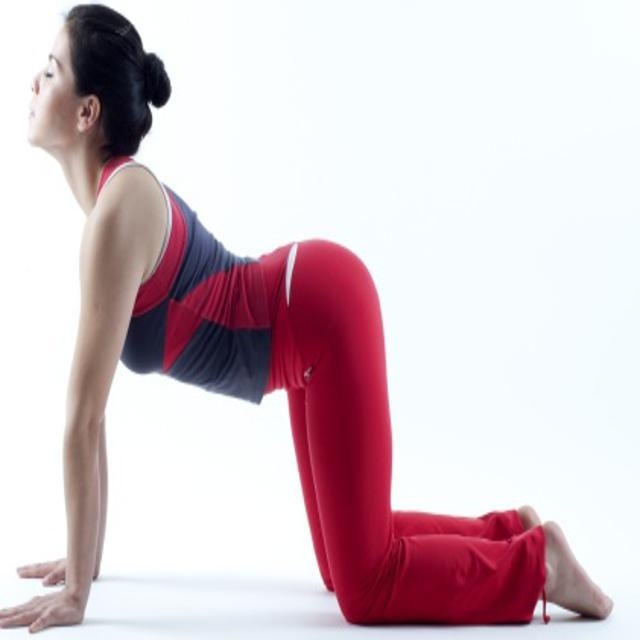Cow_Pose: (7, 6, 613, 633)
